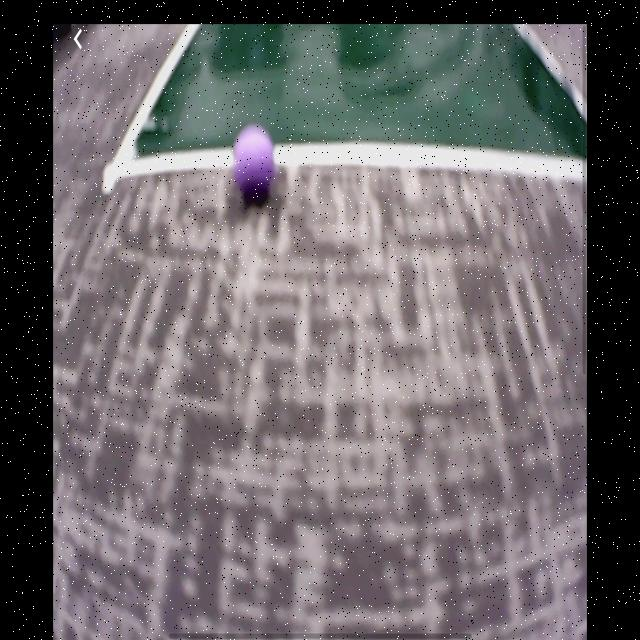ball: (233, 123, 276, 209)
